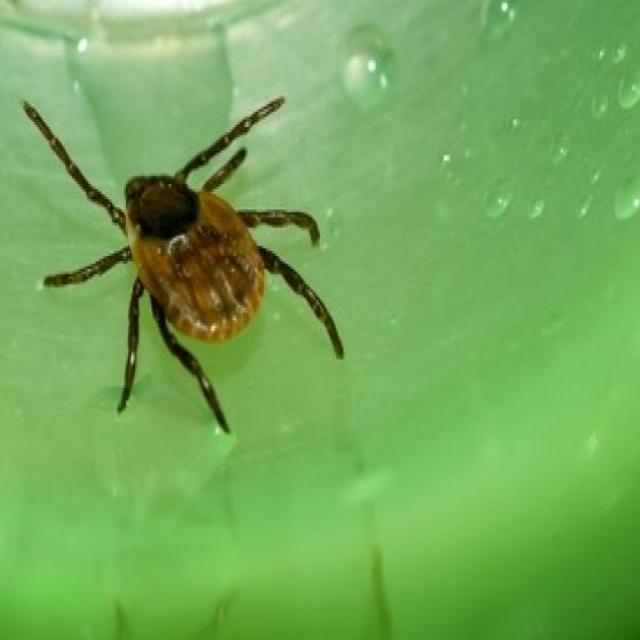Rhipicephalus Sanguineus-F: (24, 99, 343, 434)
